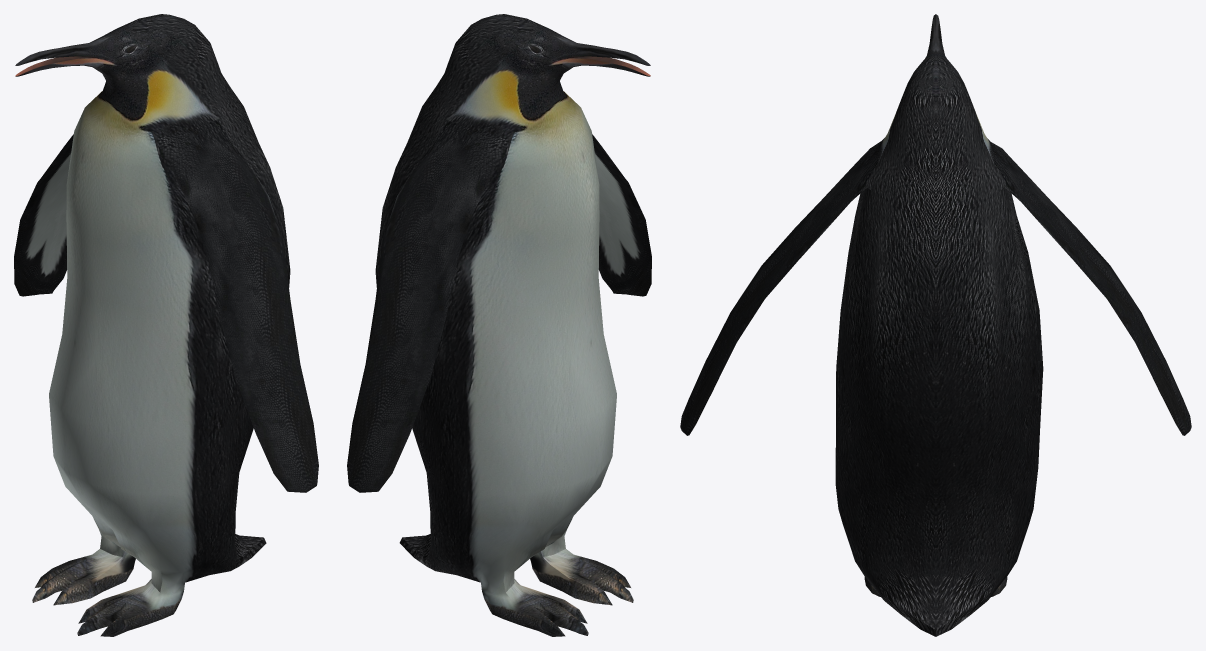
Rendered from pinguino.glb.
3 views of the same model, side by side, from view 1: azimuth 30°, elevation 25°; view 2: azimuth 150°, elevation 25°; view 3: azimuth 270°, elevation 25° (orthographic). The views are drawn at different scales.
Parts seen in each view (by area): view 1: Object_2; view 2: Object_2; view 3: Object_2.
Boxes of the visible parts, x1,y1,x2,y2 form: Object_2: (14,14,318,636); Object_2: (347,14,651,636); Object_2: (680,14,1191,636).
Size of the model in its own units: 1.17 by 2.5 by 2.13.
1 material, 1 textured.
